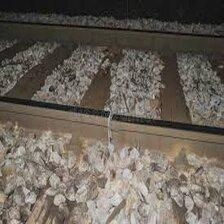railway-gap: (99, 102, 124, 153)
